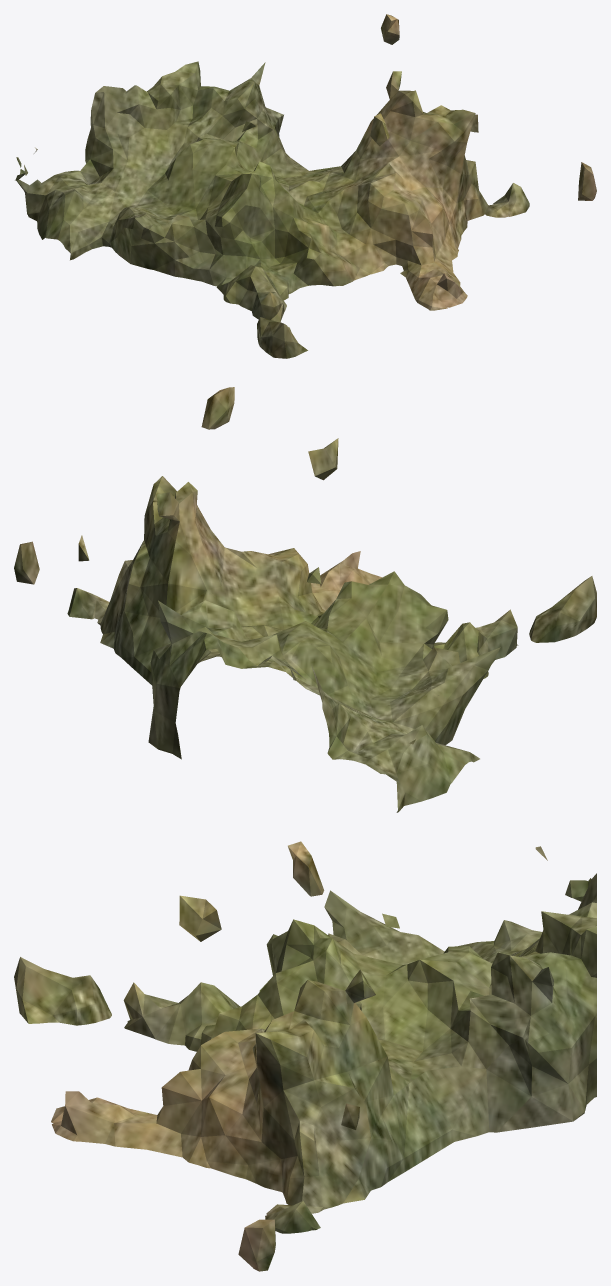
3 views of the same model, one above another, from view 1: azimuth 30°, elevation 25°; view 2: azimuth 150°, elevation 25°; view 3: azimuth 270°, elevation 25° (orthographic). The views are drawn at different scales.
Size of the model in its own units: 10.87 by 4.98 by 8.74.
2 materials, 2 textured.
